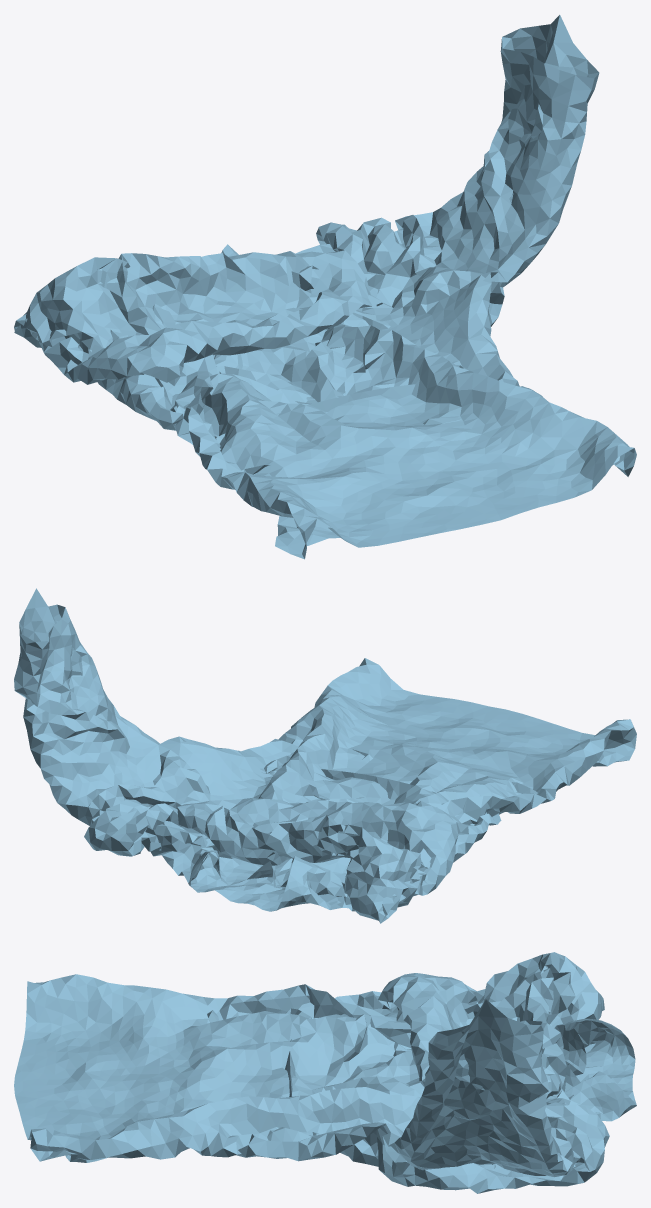
The model's file is frame_05.glb.
The picture shows the model from 3 angles, top to bottom: view 1: azimuth 30°, elevation 25°; view 2: azimuth 150°, elevation 25°; view 3: azimuth 270°, elevation 25°; orthographic projection. The views are drawn at different scales.
Parts seen in each view (by area): view 1: frame_05.obj; view 2: frame_05.obj; view 3: frame_05.obj.
Boxes of the visible parts, box(x1,y1,x2,y2) form: frame_05.obj: box(14, 15, 636, 559); frame_05.obj: box(14, 588, 636, 923); frame_05.obj: box(14, 952, 636, 1193).
Size of the model in its own units: 1.31 by 0.6208 by 1.43.
